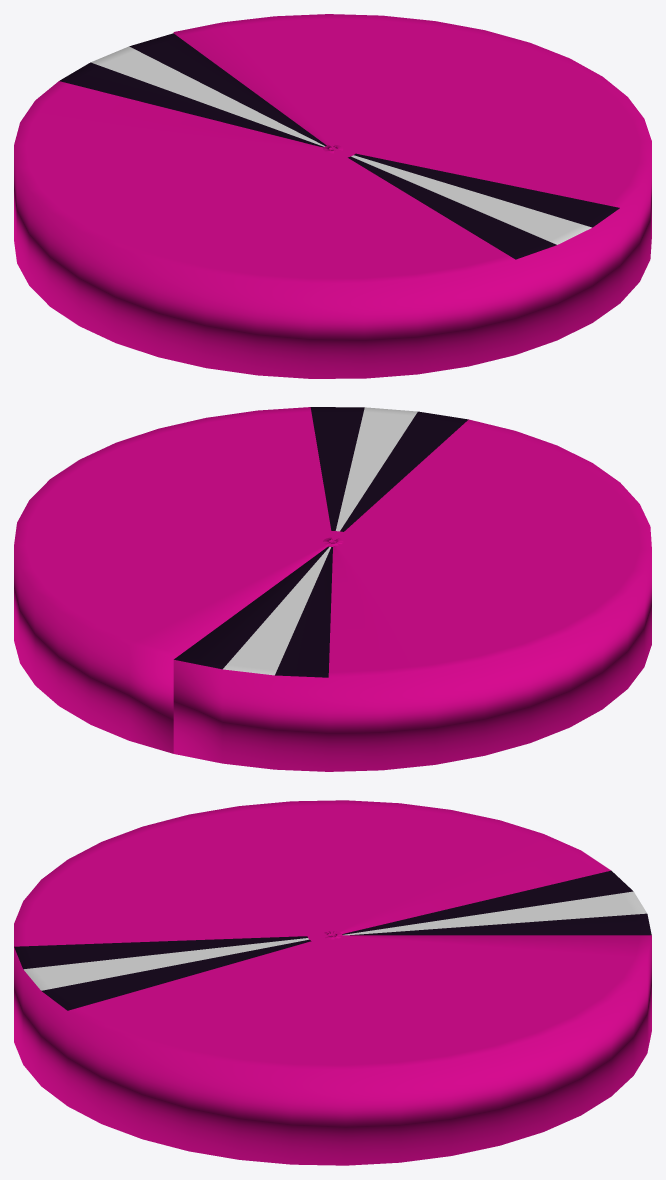
The model's file is completeCirclePinkWithTwoSides.fbx.
3 renders of one model, top to bottom at view 1: azimuth 30°, elevation 25°; view 2: azimuth 150°, elevation 25°; view 3: azimuth 270°, elevation 25°, orthographic.
Visible parts, largest first — view 1: Cube; view 2: Cube; view 3: Cube.
Boxes of the visible parts, <box> form: Cube: <box>14,14,651,378</box>; Cube: <box>14,407,651,771</box>; Cube: <box>14,800,651,1165</box>.
Bounding box in the file's own units: 6087 × 1004 × 6082.
